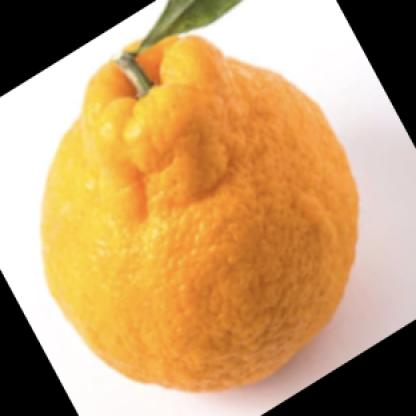fresh: (42, 34, 358, 393)
